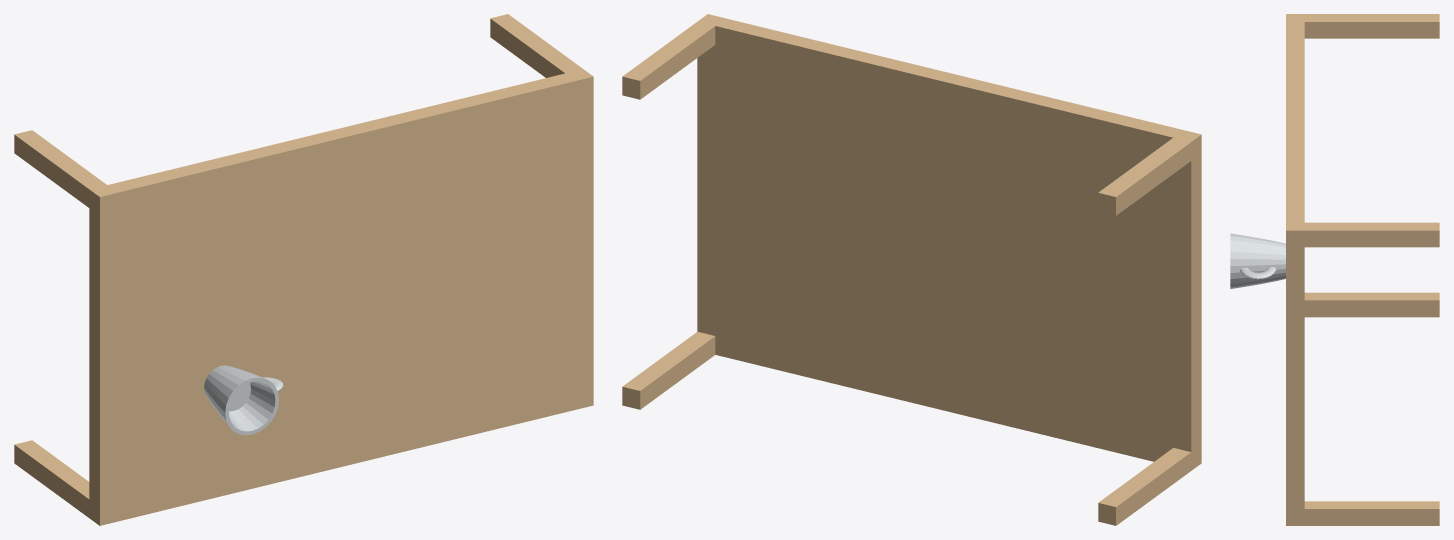
Rendered from tinker.obj.
3 views of the same model, side by side, from view 1: azimuth 30°, elevation 25°; view 2: azimuth 150°, elevation 25°; view 3: azimuth 270°, elevation 25° (orthographic). The views are drawn at different scales.
Parts seen in each view (by area): view 1: group_0_14860437, group_0_14541540; view 2: group_0_14860437; view 3: group_0_14860437, group_0_14541540.
Part boxes in pixels (x1,y1,x2,y2): group_0_14860437: (14, 14, 593, 525); group_0_14541540: (204, 365, 283, 435); group_0_14860437: (622, 14, 1201, 525); group_0_14860437: (1286, 14, 1439, 525); group_0_14541540: (1230, 233, 1285, 288).
Bounding box in the file's own units: 110 × 70 × 45.
